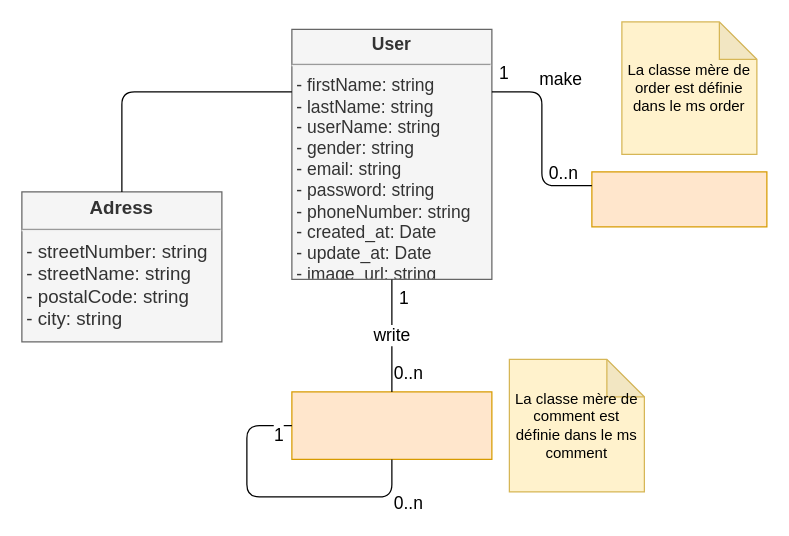
Some shapes in this 789 by 536 pixel diagram are drawn without their labels. The box of each missing label's shape, as (x1, y1, x2, y2) in pixels:
Comment: (291, 391, 492, 459)
Order: (591, 171, 767, 227)
